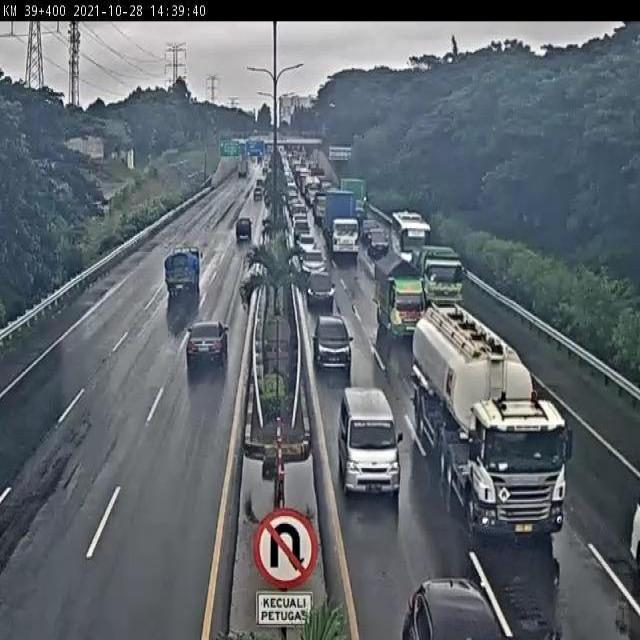big bus: (389, 212, 429, 265)
big truck: (413, 310, 568, 534), (325, 186, 361, 258)
car: (338, 386, 401, 498), (314, 316, 350, 367), (186, 322, 230, 362), (305, 269, 336, 304), (301, 248, 326, 277), (367, 228, 390, 257), (234, 213, 255, 240)
mid truck: (410, 242, 463, 302)
small truck: (164, 244, 202, 293)
truck-m-: (376, 257, 429, 339)
